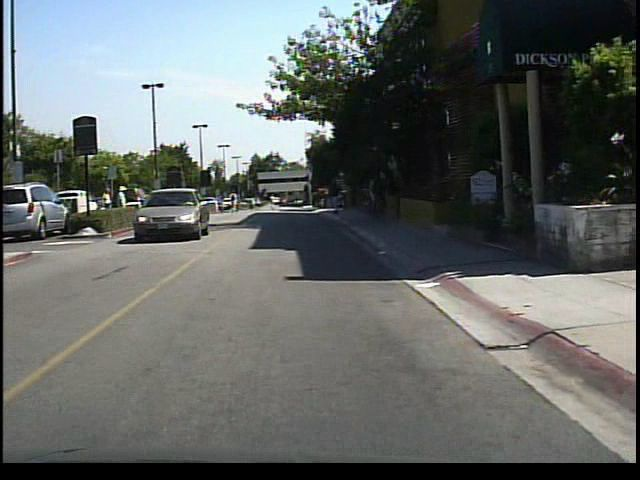person: (367, 165, 388, 223), (115, 182, 135, 228), (328, 174, 347, 218), (163, 180, 182, 223), (100, 185, 116, 227), (229, 188, 242, 216), (266, 193, 280, 215)
